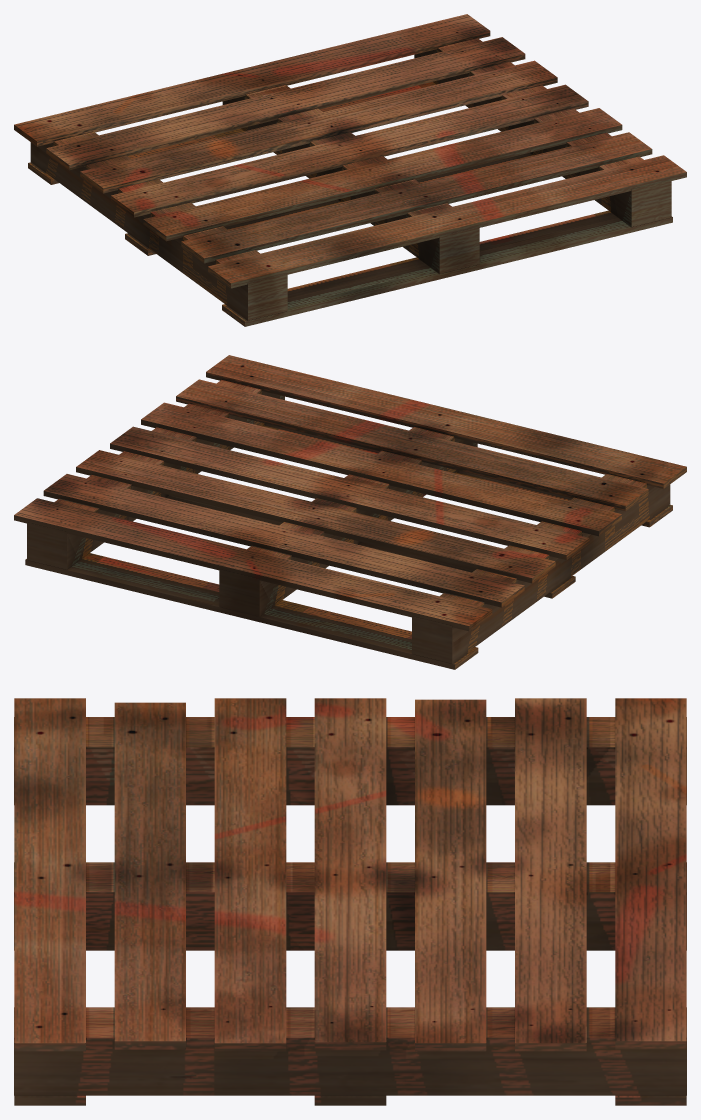
The picture shows the model from 3 angles, top to bottom: view 1: azimuth 30°, elevation 25°; view 2: azimuth 150°, elevation 25°; view 3: azimuth 270°, elevation 25°; orthographic projection. The views are drawn at different scales.
Visible parts, largest first — view 1: Cube.001; view 2: Cube.001; view 3: Cube.001.
Part boxes in pixels (bbox=[...]): Cube.001: bbox=[14, 14, 686, 326]; Cube.001: bbox=[14, 355, 686, 669]; Cube.001: bbox=[14, 698, 686, 1105].
Size of the model in its own units: 476 by 46.9 by 393.
Materials: 1 (1 with a texture image).
